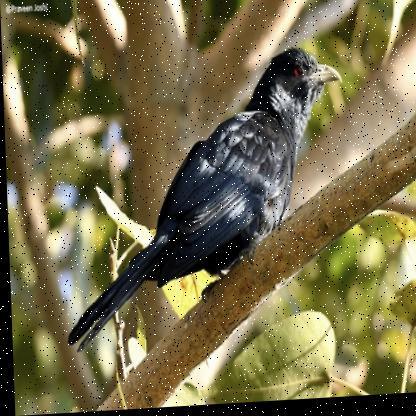Burung: (56, 47, 349, 355)
